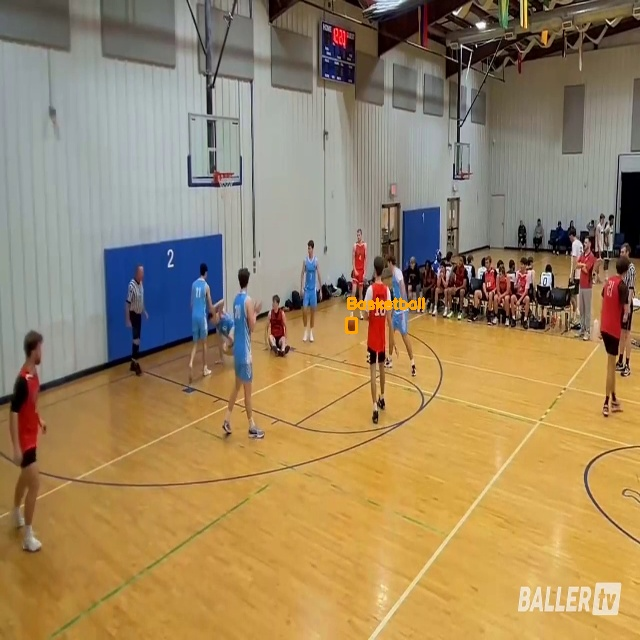Basketball: (346, 318, 356, 332)
